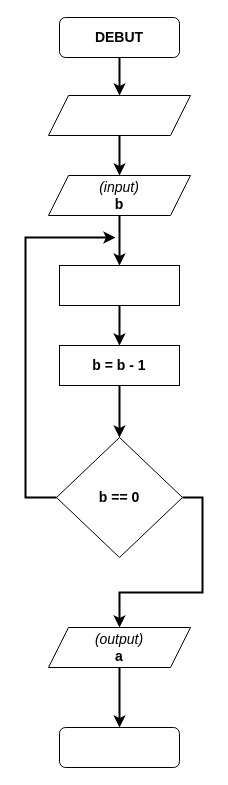
Some shapes in this 228 by 785 pixel diagram are drawn without their labels. Each missing label, with the box of its shape:
(input) a: (48, 94, 190, 136)
a = a + 1: (58, 264, 180, 306)
FIN: (58, 726, 180, 768)
